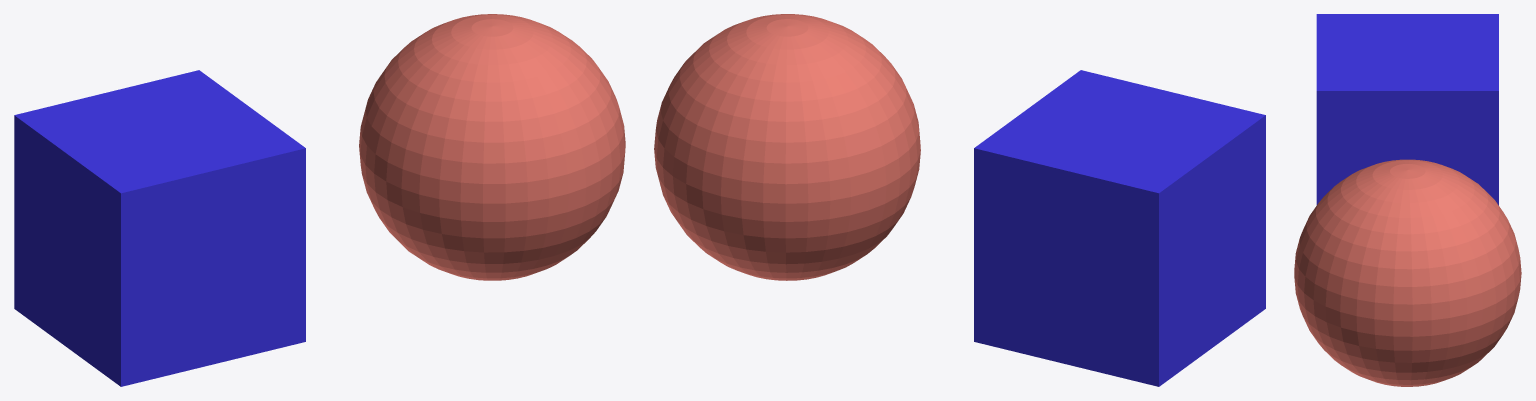
3 views of the same model, side by side, from view 1: azimuth 30°, elevation 25°; view 2: azimuth 150°, elevation 25°; view 3: azimuth 270°, elevation 25° (orthographic). The views are drawn at different scales.
Visible parts, largest first — view 1: Cube, 球; view 2: Cube, 球; view 3: 球, Cube.
Boxes of the visible parts, <box> form: Cube: <box>14,70,305,386</box>; 球: <box>359,14,625,280</box>; Cube: <box>974,70,1265,386</box>; 球: <box>654,14,920,280</box>; 球: <box>1294,159,1521,386</box>; Cube: <box>1316,14,1498,205</box>.
Size of the model in its own units: 5.84 by 2.5 by 2.5.
